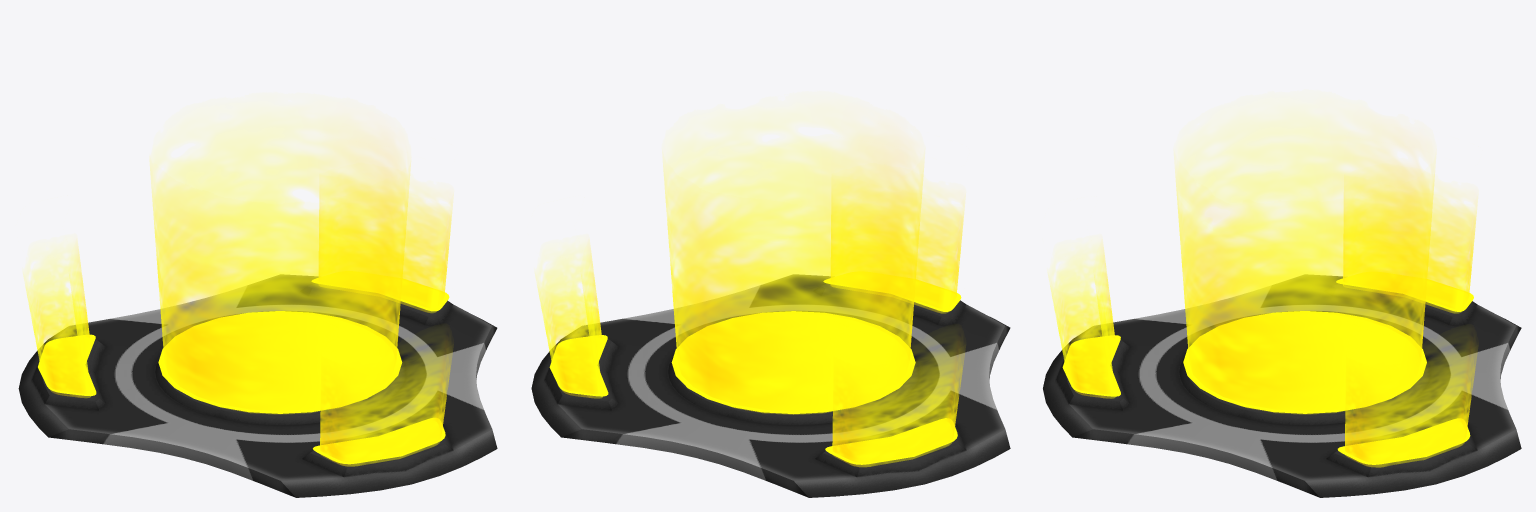
Rendered from boost_small.draco.glb.
The picture shows the model from 3 angles, left to right: view 1: azimuth 30°, elevation 25°; view 2: azimuth 150°, elevation 25°; view 3: azimuth 270°, elevation 25°; orthographic projection.
Parts seen in each view (by area): view 1: BoostPad_Small_Glow, BoostPad_Small; view 2: BoostPad_Small_Glow, BoostPad_Small; view 3: BoostPad_Small_Glow, BoostPad_Small.
Part boxes in pixels (box(x1,y1,x2,y2)): BoostPad_Small_Glow: box(24, 127, 452, 466); BoostPad_Small: box(18, 274, 497, 497); BoostPad_Small_Glow: box(536, 136, 964, 466); BoostPad_Small: box(531, 274, 1010, 497); BoostPad_Small_Glow: box(1049, 127, 1476, 467); BoostPad_Small: box(1043, 274, 1521, 497).
Size of the model in its own units: 95.71 by 64.41 by 89.
Materials: 3 (2 with a texture image).
